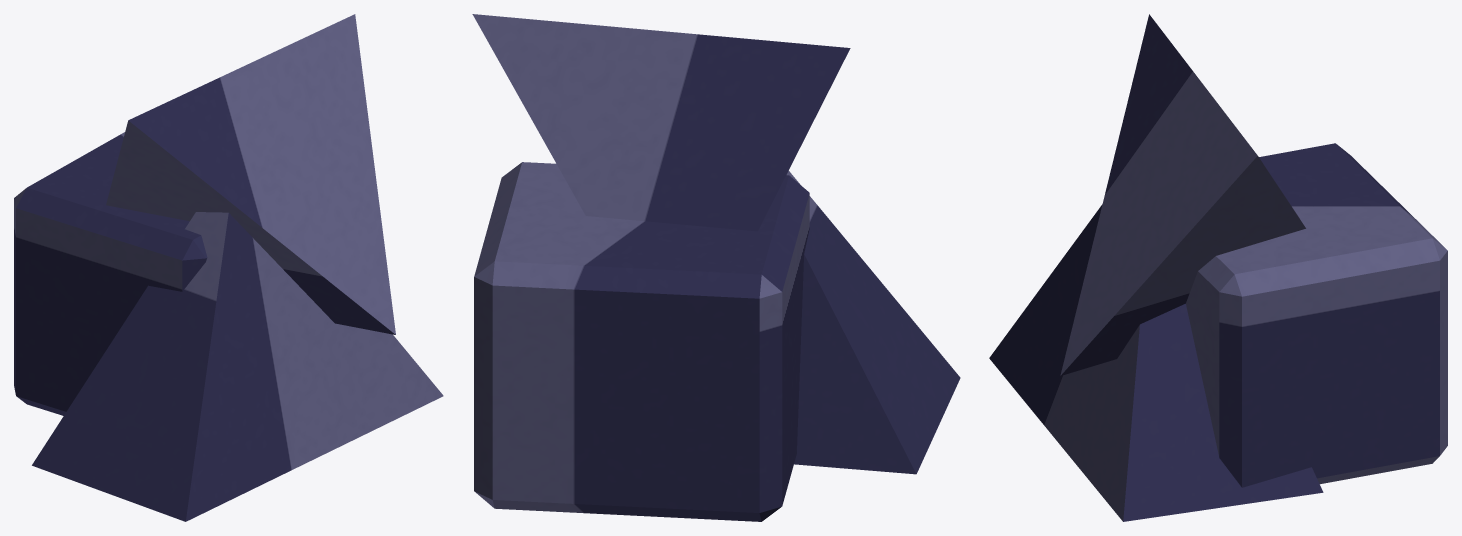
3 views of the same model, side by side, from view 1: azimuth 30°, elevation 25°; view 2: azimuth 150°, elevation 25°; view 3: azimuth 270°, elevation 25° (orthographic). The views are drawn at different scales.
Visible parts, largest first — view 1: geometry_0; view 2: geometry_0; view 3: geometry_0.
Boxes of the visible parts, bbox=[...] form: geometry_0: bbox=[14, 14, 443, 521]; geometry_0: bbox=[472, 14, 960, 521]; geometry_0: bbox=[989, 14, 1447, 521].
Size of the model in its own units: 2.04 by 1.78 by 2.05.
1 material, 1 textured.
